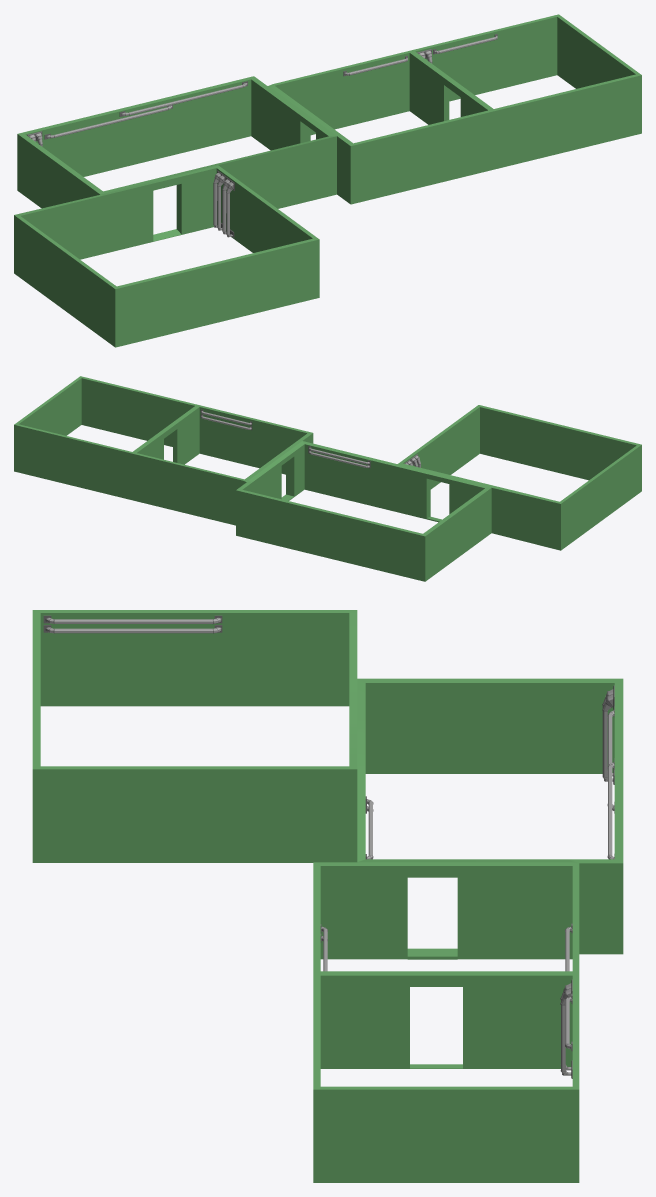
The model's file is Conveyor_structure.fbx.
The picture shows the model from 3 angles, top to bottom: view 1: azimuth 30°, elevation 25°; view 2: azimuth 150°, elevation 25°; view 3: azimuth 270°, elevation 25°; orthographic projection. The views are drawn at different scales.
Parts seen in each view (by area): view 1: pCube1, pCube39; view 2: pCube1, pCube39; view 3: pCube1, pCube39.
Boxes of the visible parts, left/top/right/bottom form: pCube1: left=14, top=14, right=641, bottom=347; pCube39: left=27, top=34, right=497, bottom=237; pCube1: left=14, top=376, right=641, bottom=581; pCube39: left=200, top=409, right=420, bottom=468; pCube1: left=32, top=610, right=623, bottom=1182; pCube39: left=43, top=615, right=614, bottom=1078.
Size of the model in its own units: 110 by 10.01 by 57.28.
